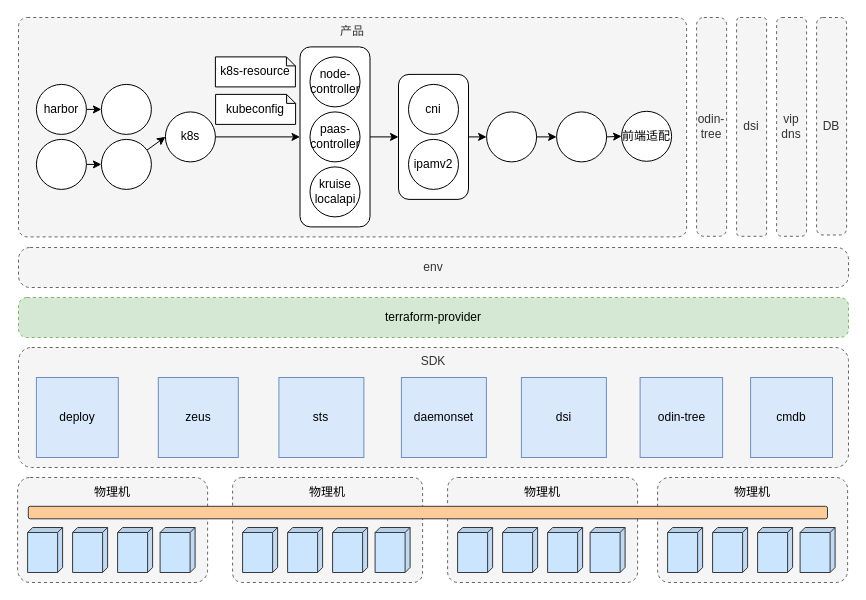
Image size: 866x600. Some labels were removed from this diagram. Each missing label, with the centre of its shape:
"docker build" goes at point 125,108.
"etcd" goes at point 60,163.
"galahad" goes at point 511,136.
"ipamv1" goes at point 125,163.
"iptables" goes at point 427,512.
"webhook" goes at point 581,136.
